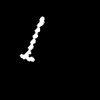half_double_crochet: (20, 17, 43, 60)
